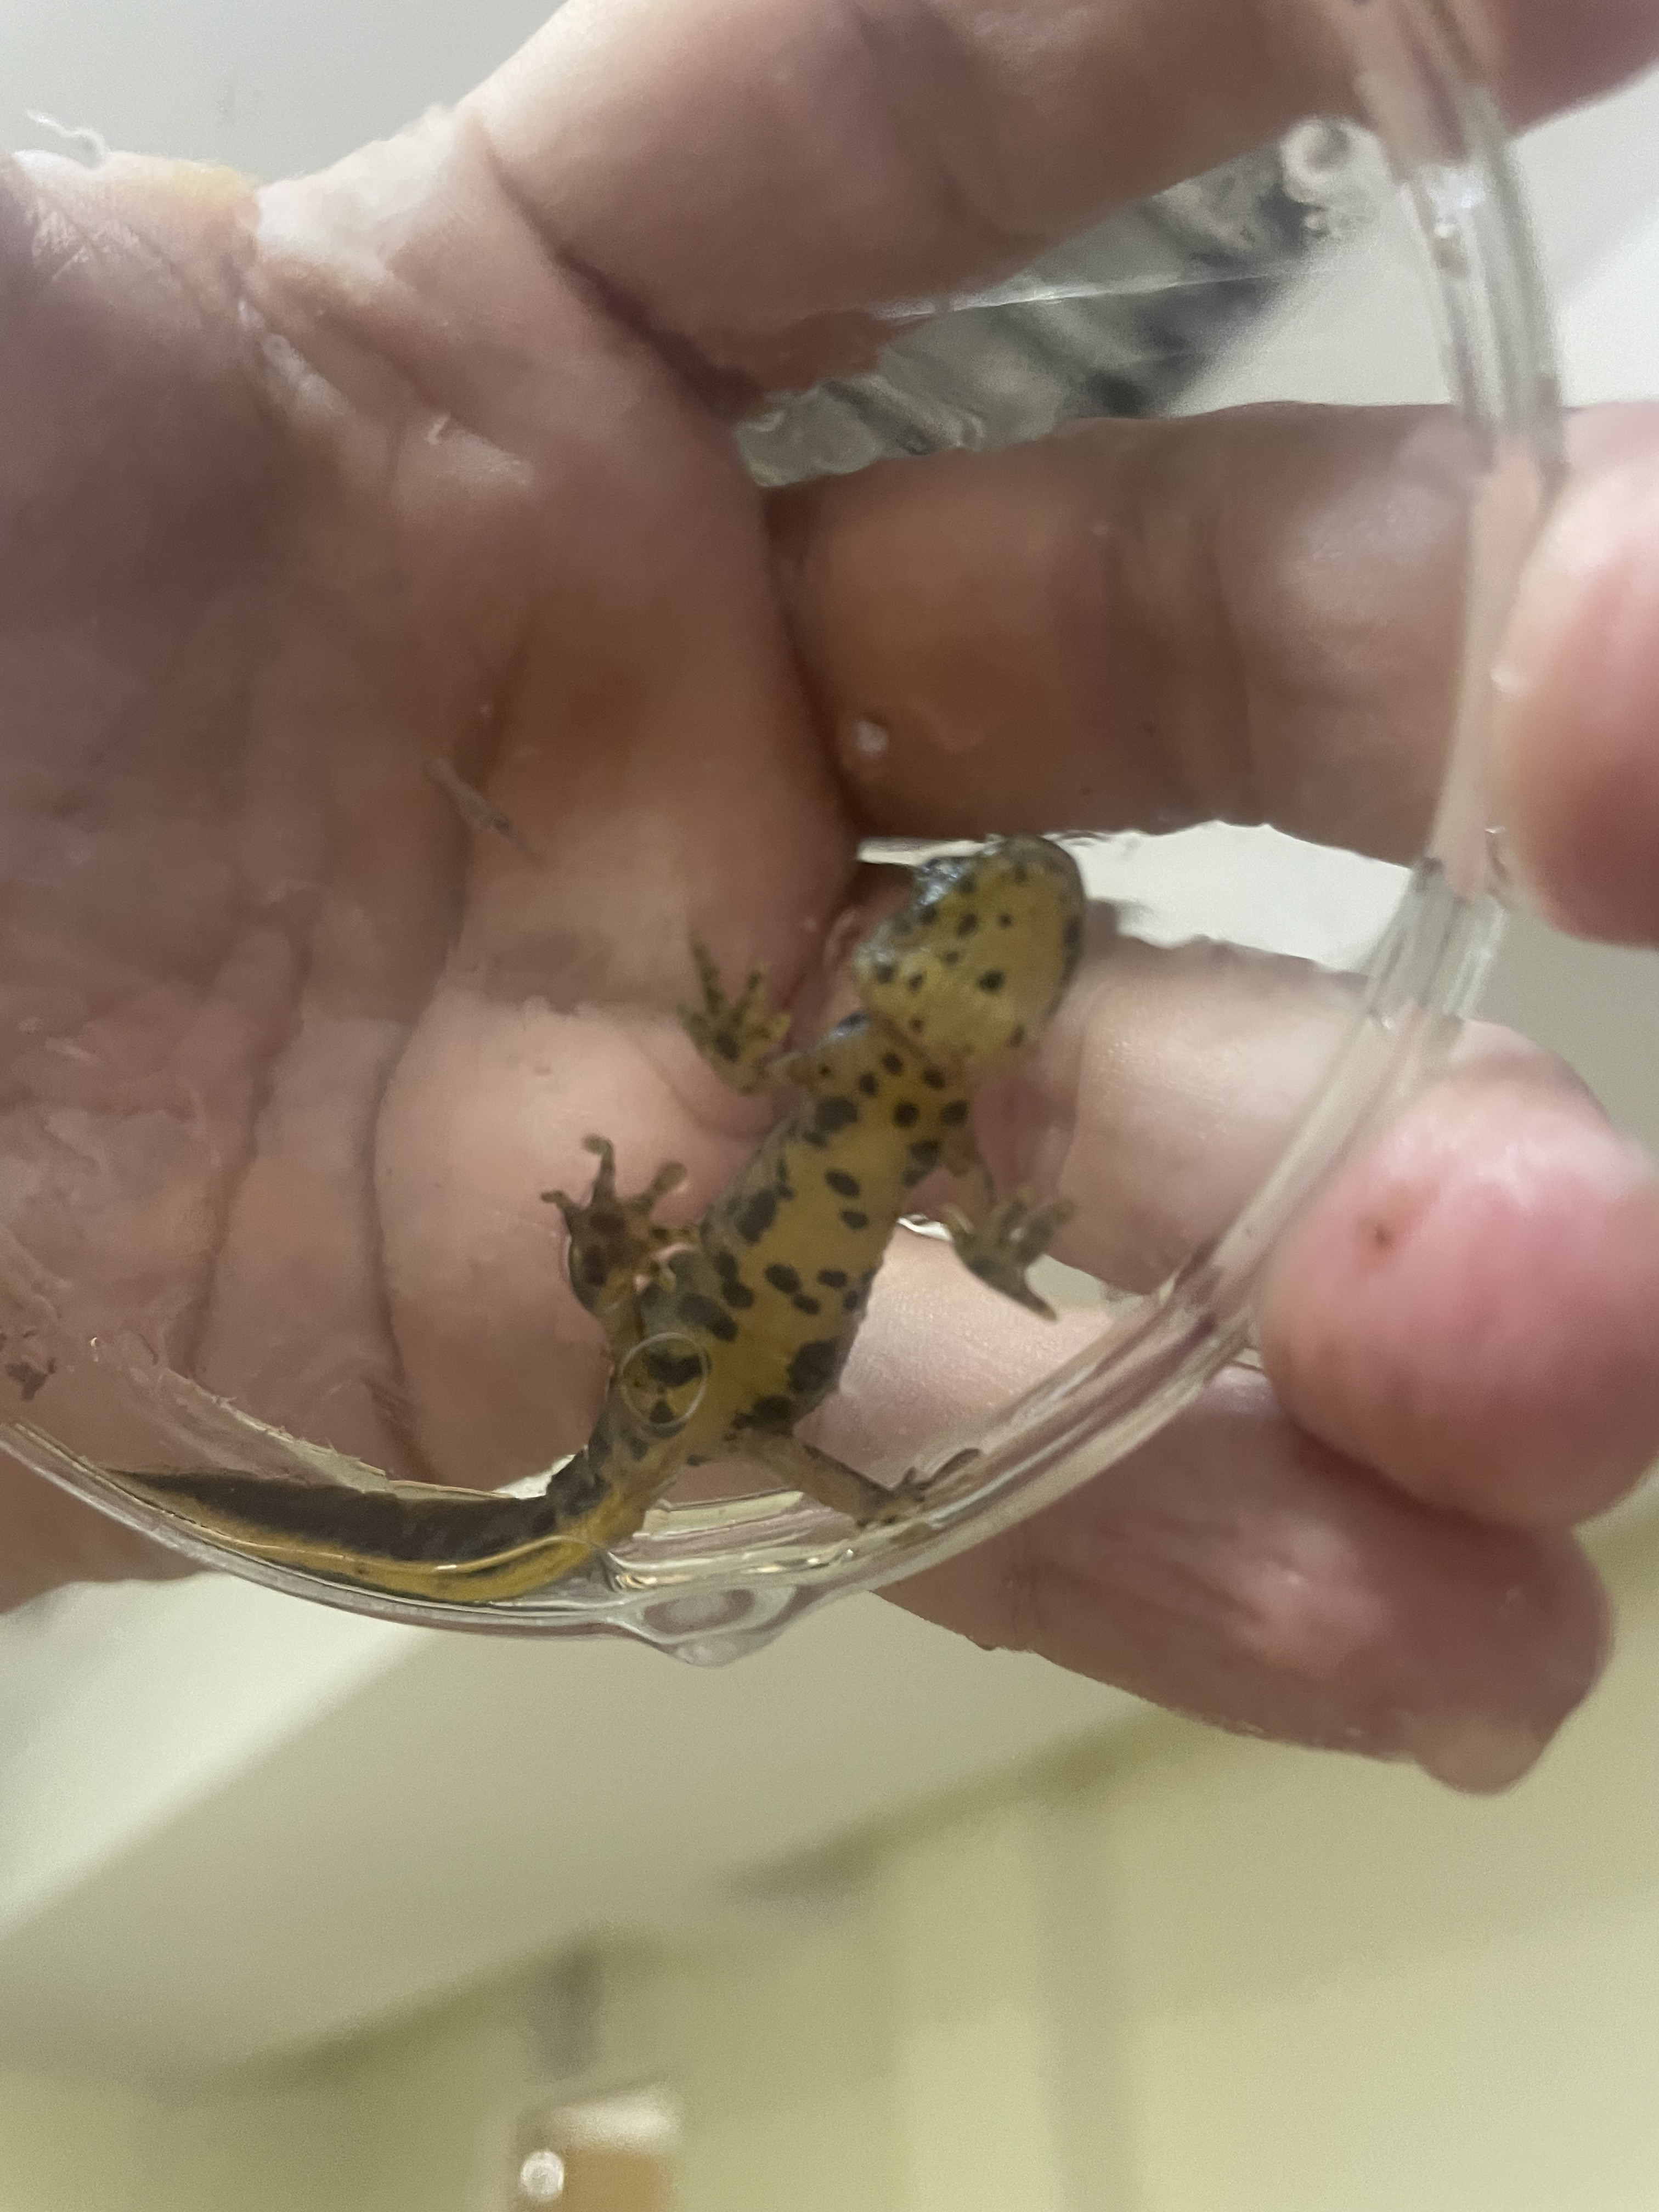Karelin_newt: (636, 1073, 951, 1432)
